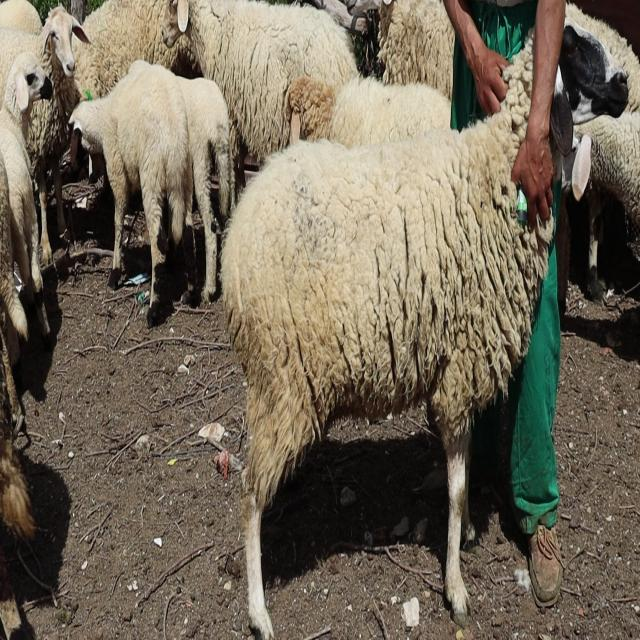Score_5: (222, 46, 554, 638)
